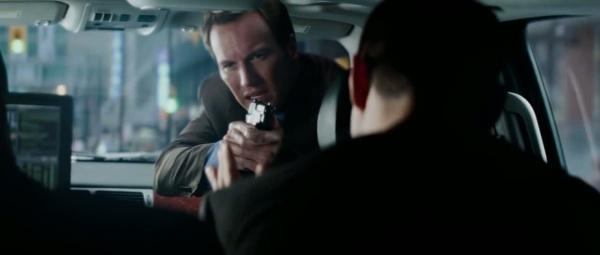Gun: (245, 100, 277, 131)
